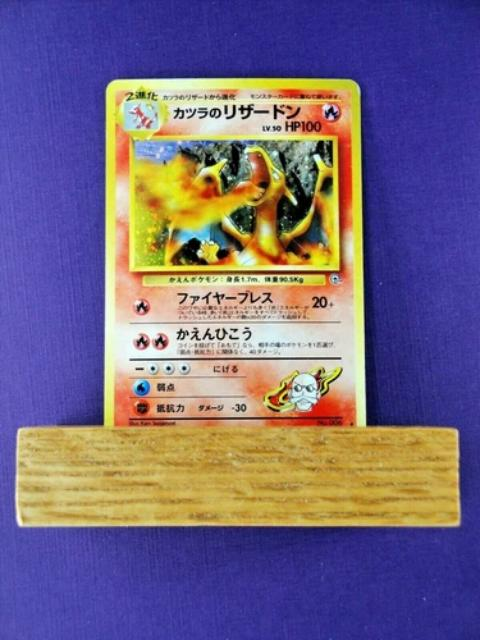Card: (99, 73, 371, 431)
Name: (170, 99, 308, 126)
